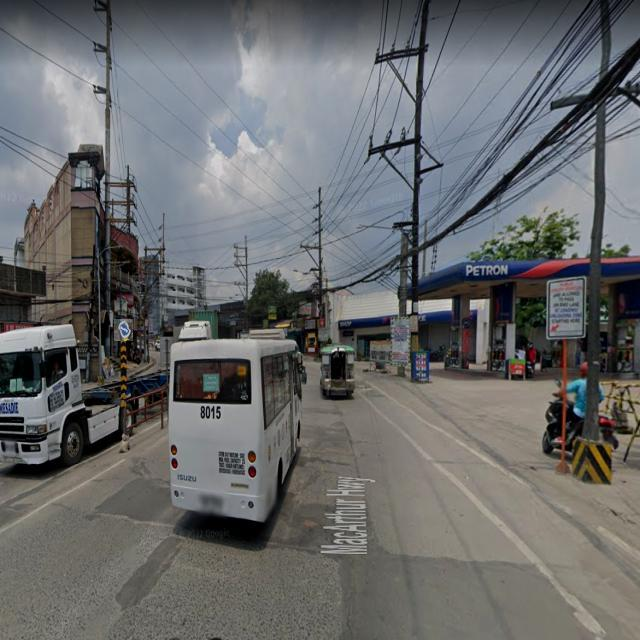keep right: (114, 319, 133, 341)
